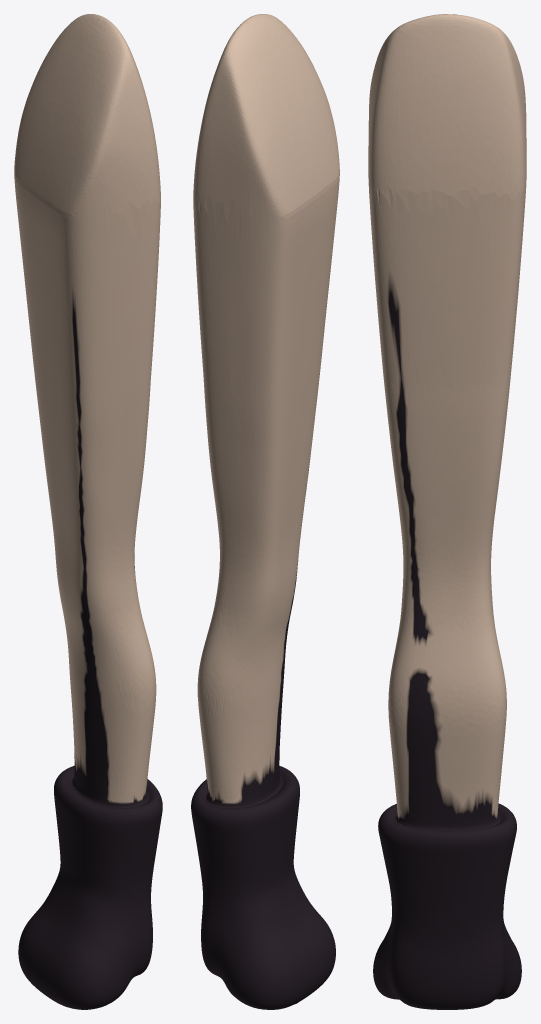
File: leg_R.glb
3 views of the same model, side by side, from view 1: azimuth 30°, elevation 25°; view 2: azimuth 150°, elevation 25°; view 3: azimuth 270°, elevation 25° (orthographic). The views are drawn at different scales.
Parts seen in each view (by area): view 1: geometry_0; view 2: geometry_0; view 3: geometry_0.
Boxes of the visible parts, box(x1,y1,x2,y2) form: geometry_0: box(14, 14, 162, 1009); geometry_0: box(191, 14, 339, 1009); geometry_0: box(368, 14, 526, 1009).
Bounding box in the file's own units: 0.1618 × 1.33 × 0.1912.
